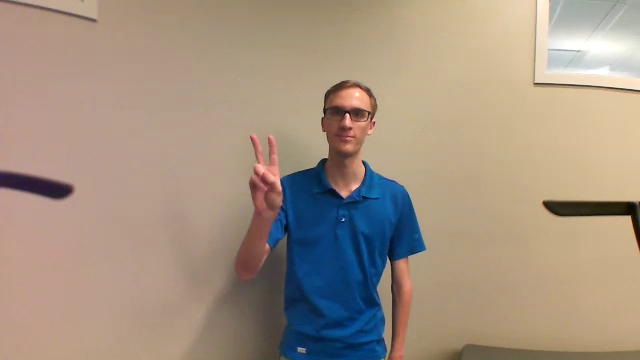peace: (240, 131, 289, 219)
